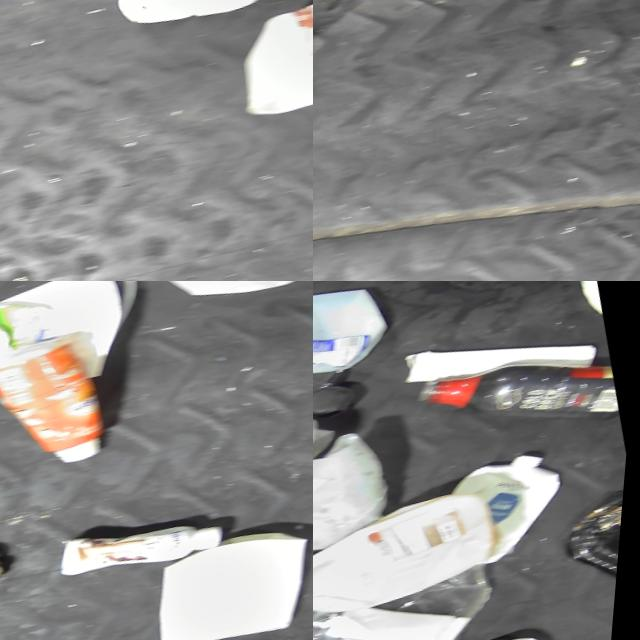can: (461, 622, 574, 640)
milk_jug: (313, 478, 534, 630), (313, 400, 408, 573), (313, 281, 411, 400), (221, 0, 313, 122)
non_white_jug: (0, 323, 139, 483)
